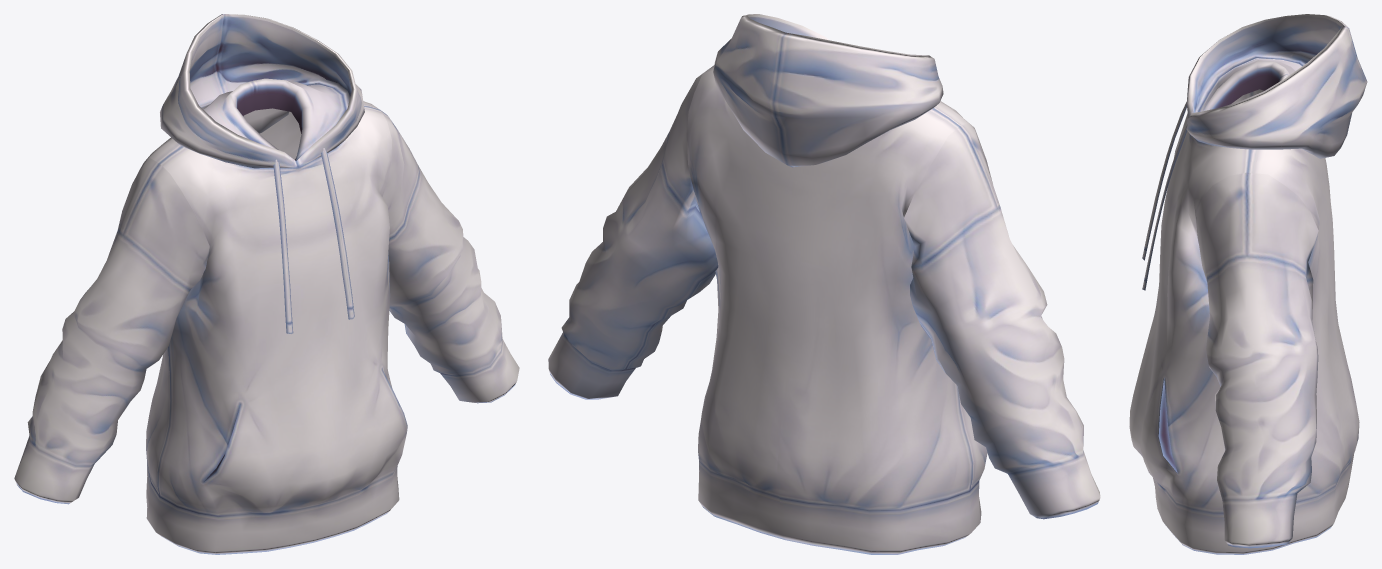
The model's file is whitehoodie.glb.
3 views of the same model, side by side, from view 1: azimuth 30°, elevation 25°; view 2: azimuth 150°, elevation 25°; view 3: azimuth 270°, elevation 25° (orthographic). The views are drawn at different scales.
Parts seen in each view (by area): view 1: Body.014; view 2: Body.014; view 3: Body.014.
Boxes of the visible parts, box(x1,y1,x2,y2) form: Body.014: box(14, 14, 519, 554); Body.014: box(548, 14, 1100, 554); Body.014: box(1129, 14, 1367, 554).
Size of the model in its own units: 0.9605 by 0.867 by 0.3915.
1 material, 1 textured.
